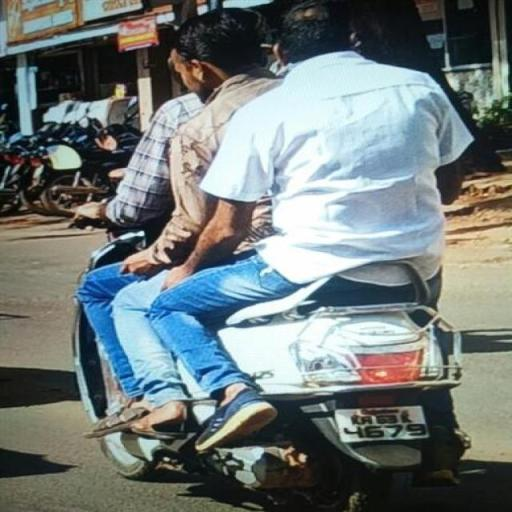tripple riding: (70, 0, 478, 320)
